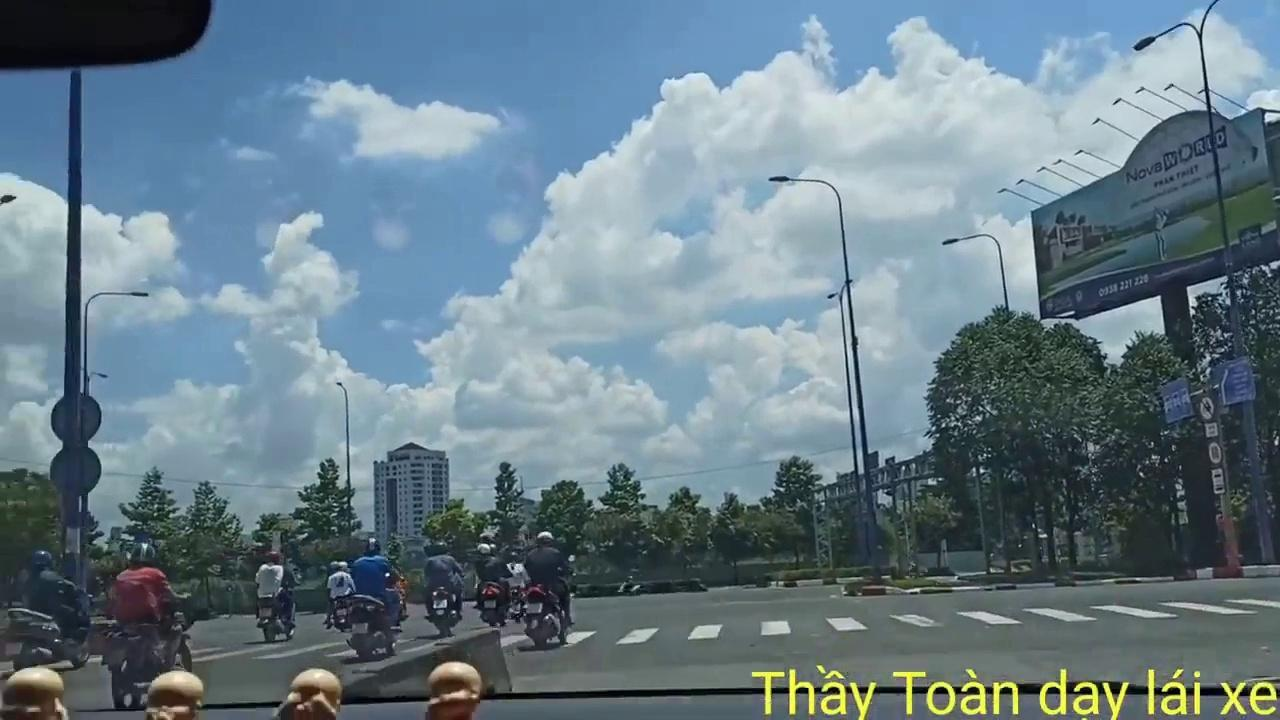Biển phụ: (1211, 467, 1228, 495)
Chỉ hướng đường: (1212, 355, 1259, 405)
Cấm xe máy: (1198, 395, 1217, 421)
Làn đường cho từng xe: (1160, 376, 1195, 422)
